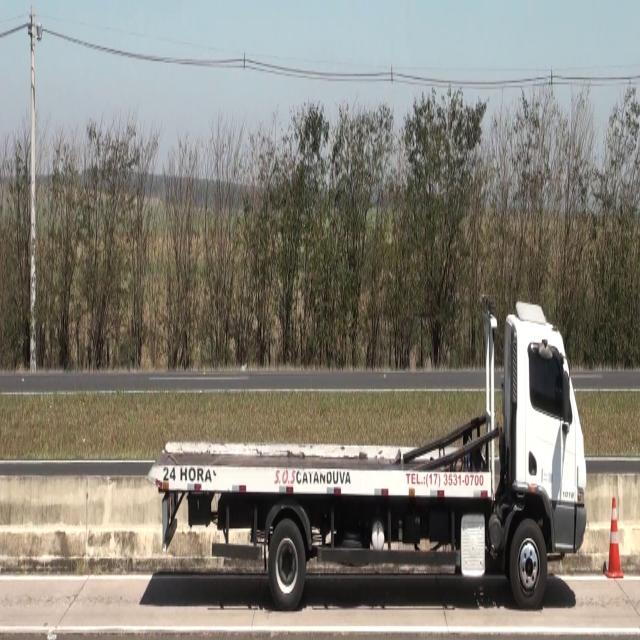-axle: (510, 520, 547, 609), (271, 520, 307, 606)
